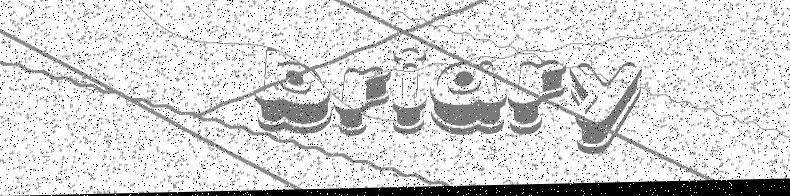a: (428, 61, 507, 140)
b: (254, 46, 334, 137)
i: (392, 48, 427, 139)
r: (509, 61, 565, 139), (335, 67, 391, 142)
y: (569, 63, 644, 160)
